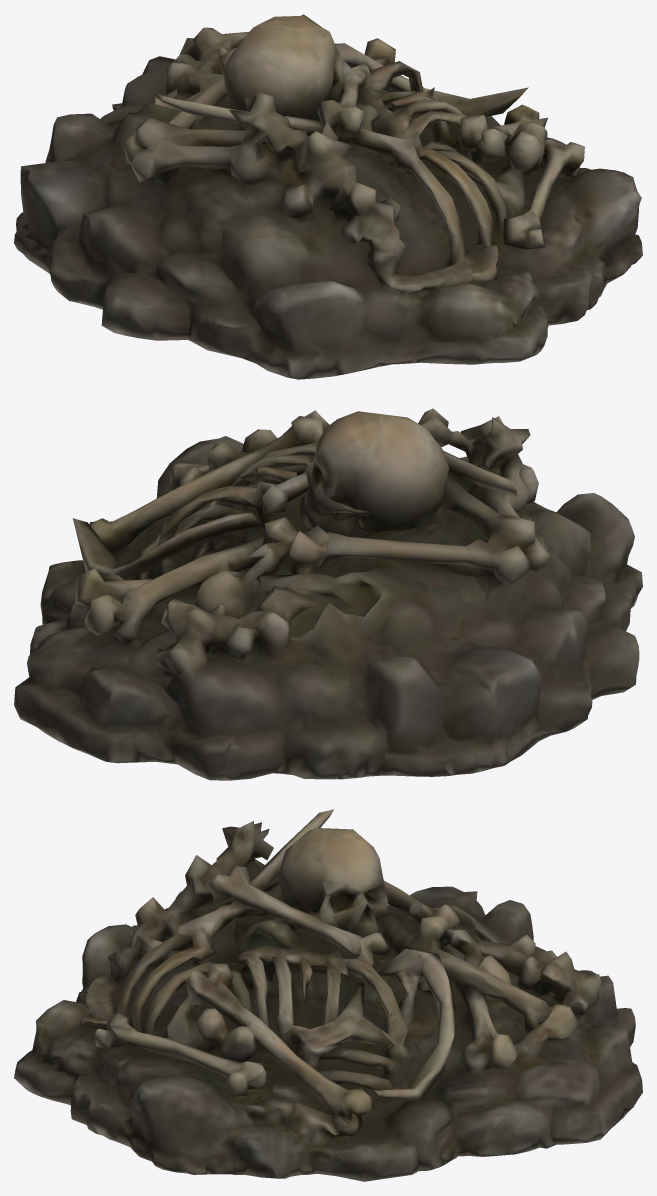
File: bone-pile.glb
3 views of the same model, one above another, from view 1: azimuth 30°, elevation 25°; view 2: azimuth 150°, elevation 25°; view 3: azimuth 270°, elevation 25° (orthographic). The views are drawn at different scales.
Visible parts, largest first — view 1: tripo_node_027fe6f5-ec5e-483c-925a-1f12d47fe9de; view 2: tripo_node_027fe6f5-ec5e-483c-925a-1f12d47fe9de; view 3: tripo_node_027fe6f5-ec5e-483c-925a-1f12d47fe9de.
Boxes of the visible parts, <box> form: tripo_node_027fe6f5-ec5e-483c-925a-1f12d47fe9de: <box>14,14,642,379</box>; tripo_node_027fe6f5-ec5e-483c-925a-1f12d47fe9de: <box>14,408,642,780</box>; tripo_node_027fe6f5-ec5e-483c-925a-1f12d47fe9de: <box>14,809,642,1181</box>.
Bounding box in the file's own units: 0.8868 × 0.3788 × 1.
1 material, 1 textured.
